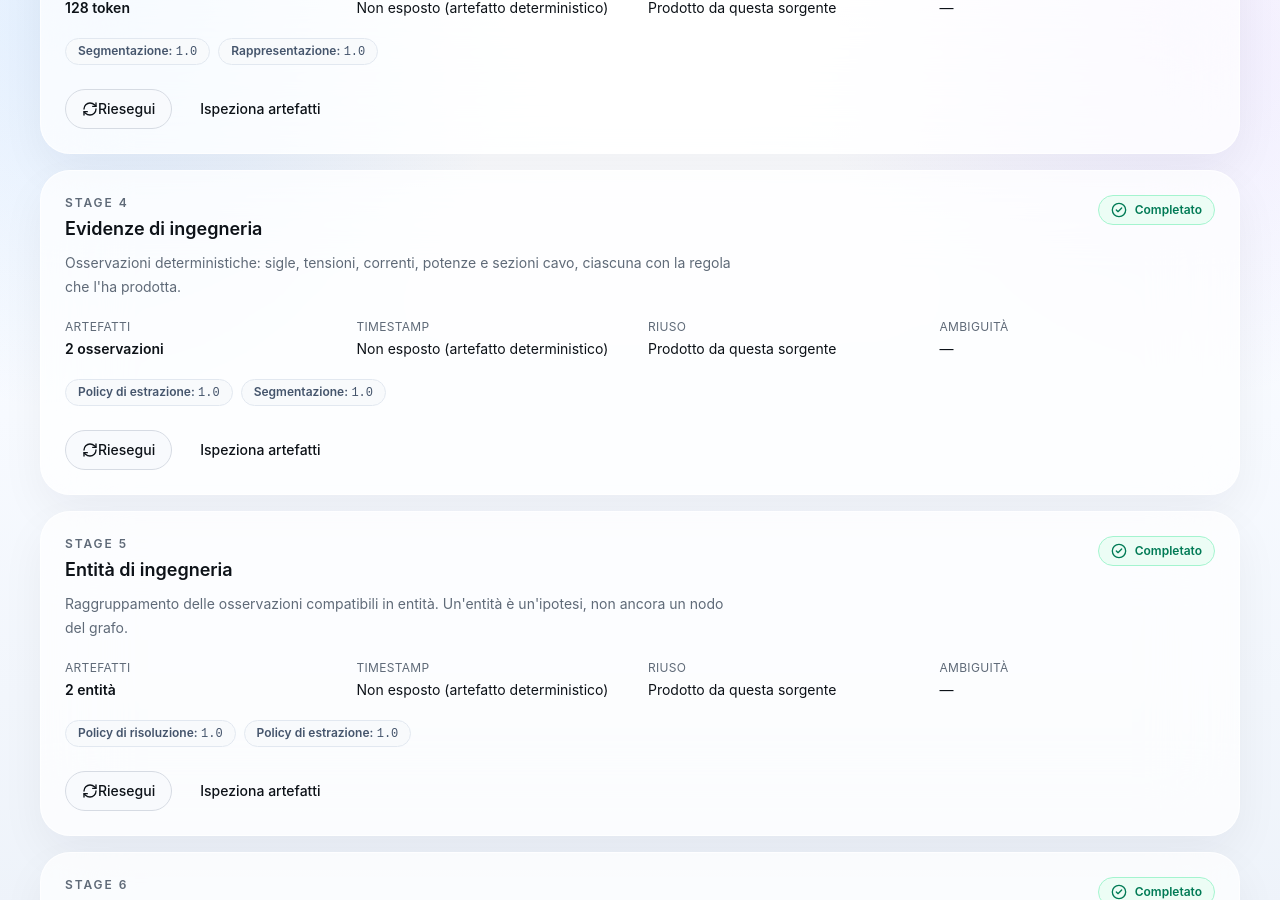
Test: inspecting artefacts › shows each observation with the rule and the line that produced it
(page scrolled)
Expected: the heading "Evidenze di ingegneria" is shown, top-left (65, 218), bottom-right (262, 239)
Click the button "Ispeziona artefatti" below "2 osservazioni".
click(260, 450)  # box top-left (184, 430), bottom-right (337, 470)
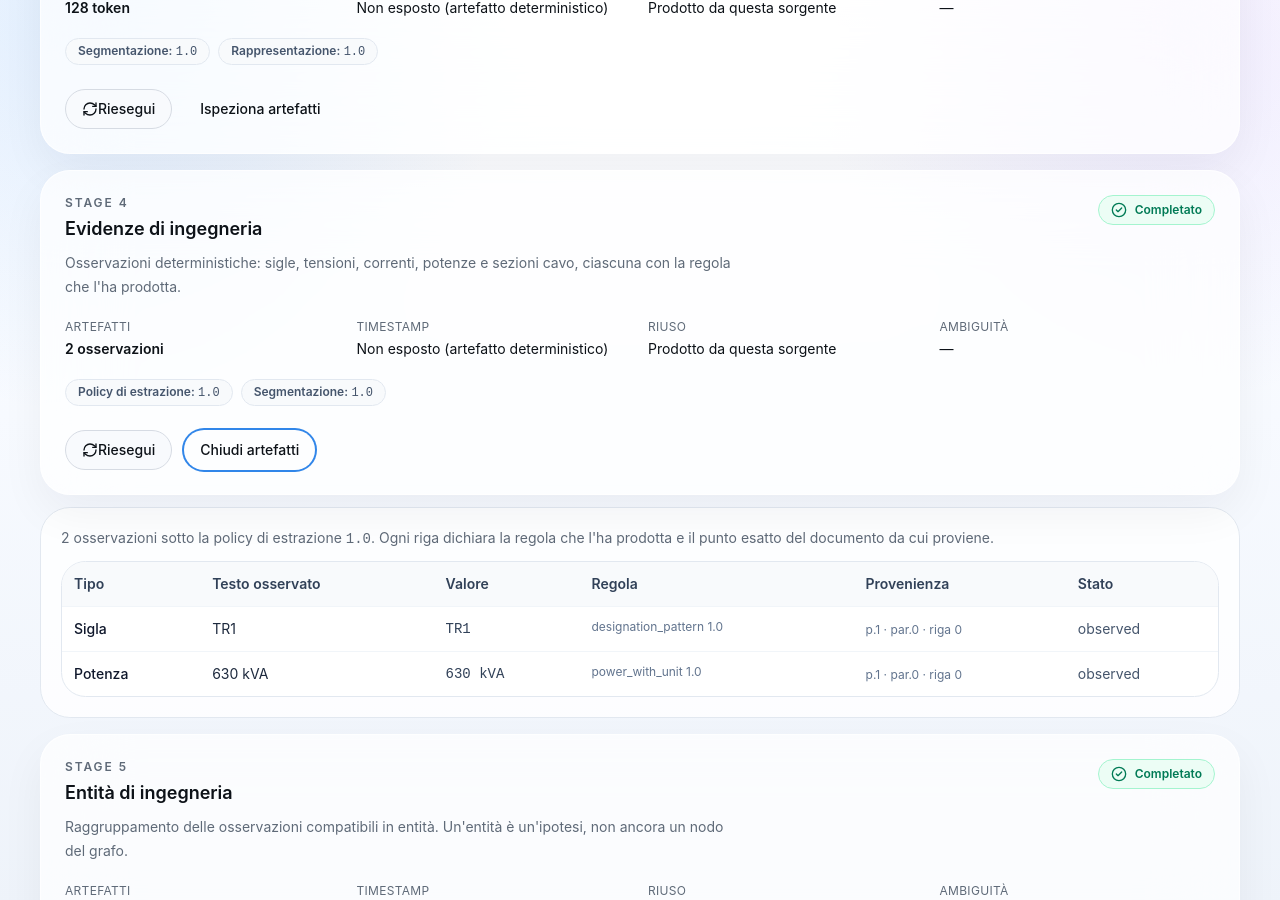
Result: the text "power_with_unit 1.0" is shown at top-left (580, 652), bottom-right (854, 696)
Result: the text "p.1 · par.0 · riga 0" in the row of "Sigla" is shown at top-left (866, 622), bottom-right (962, 637)
